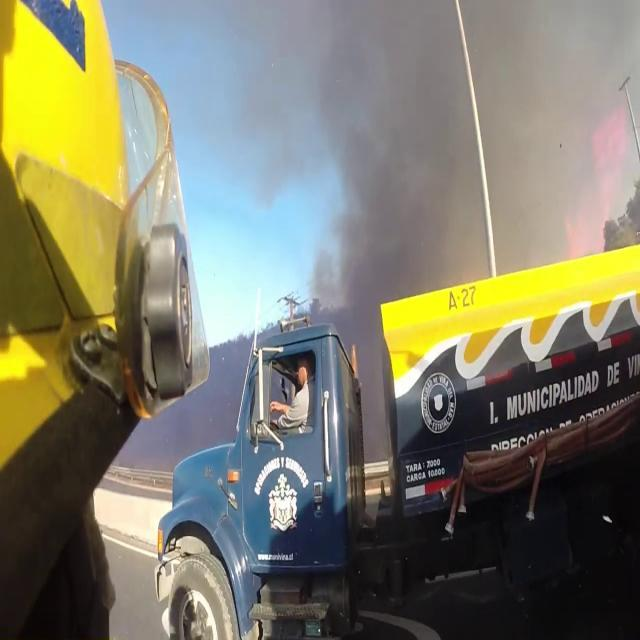Smoke: (224, 0, 634, 305)
